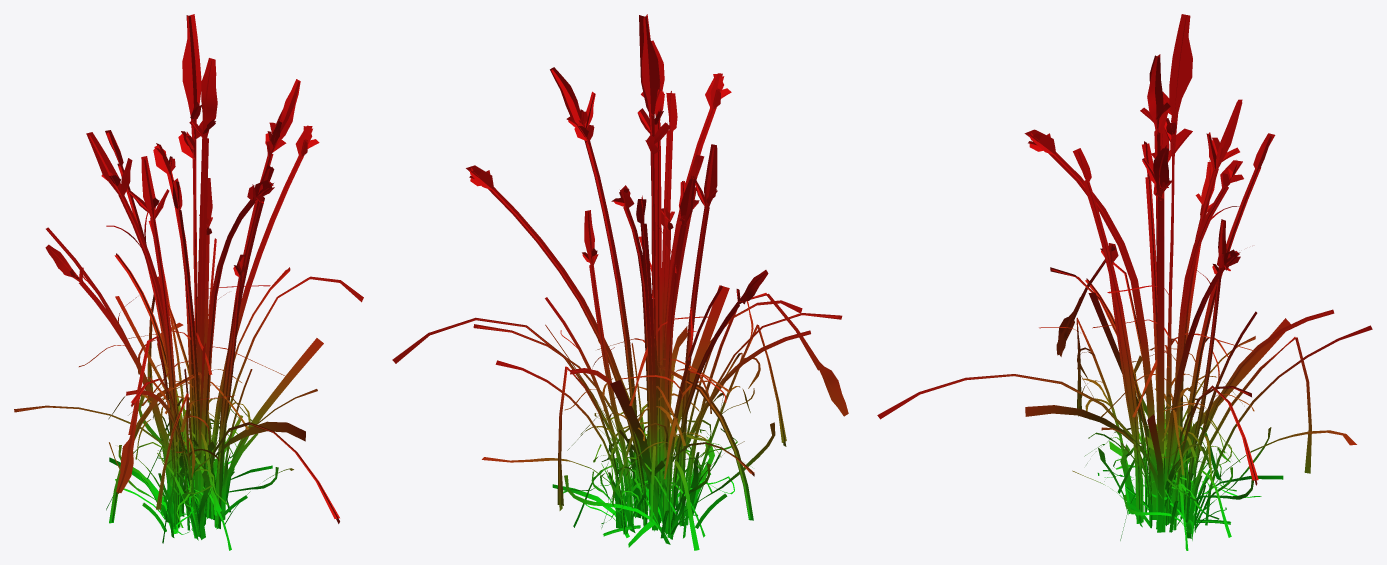
Rendered from Var1_LOD1.fbx.
The picture shows the model from 3 angles, left to right: view 1: azimuth 30°, elevation 25°; view 2: azimuth 150°, elevation 25°; view 3: azimuth 270°, elevation 25°; orthographic projection. The views are drawn at different scales.
Parts seen in each view (by area): view 1: _38b9_Var1_LOD1; view 2: _38b9_Var1_LOD1; view 3: _38b9_Var1_LOD1.
Part boxes in pixels (box(x1,y1,x2,y2)): _38b9_Var1_LOD1: box(14, 14, 363, 550); _38b9_Var1_LOD1: box(392, 14, 848, 550); _38b9_Var1_LOD1: box(877, 14, 1372, 550).
Bounding box in the file's own units: 80.57 × 113 × 97.04.
